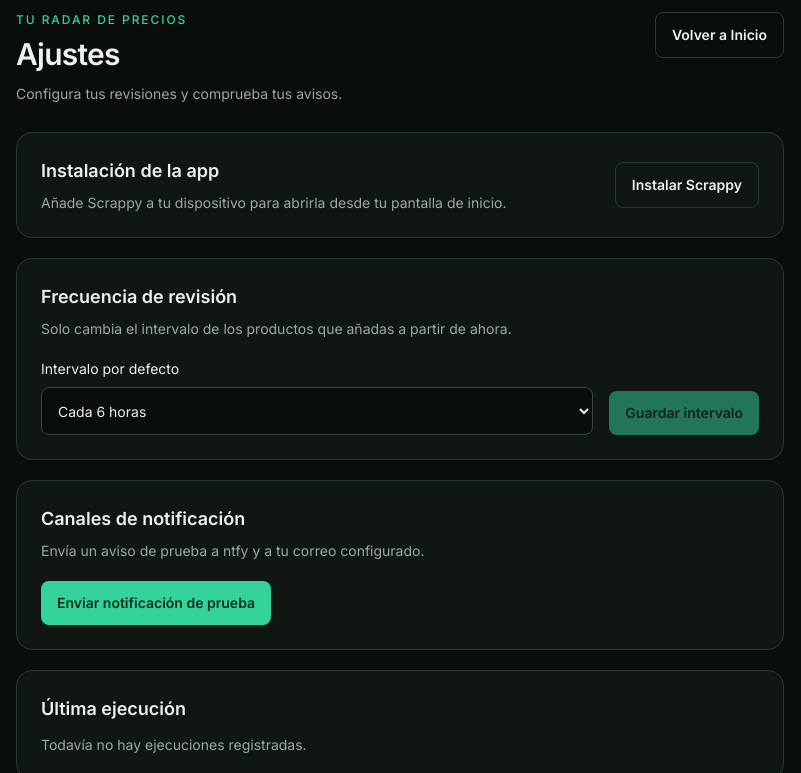
Test: settings › does not repeat a send after a network error
Expected: the dropdown labelled "Intervalo por defecto" is shown, [41,387,593,435]
Click the button "Enviar notificación de prueba" at [156, 603], box [41,581,271,625]
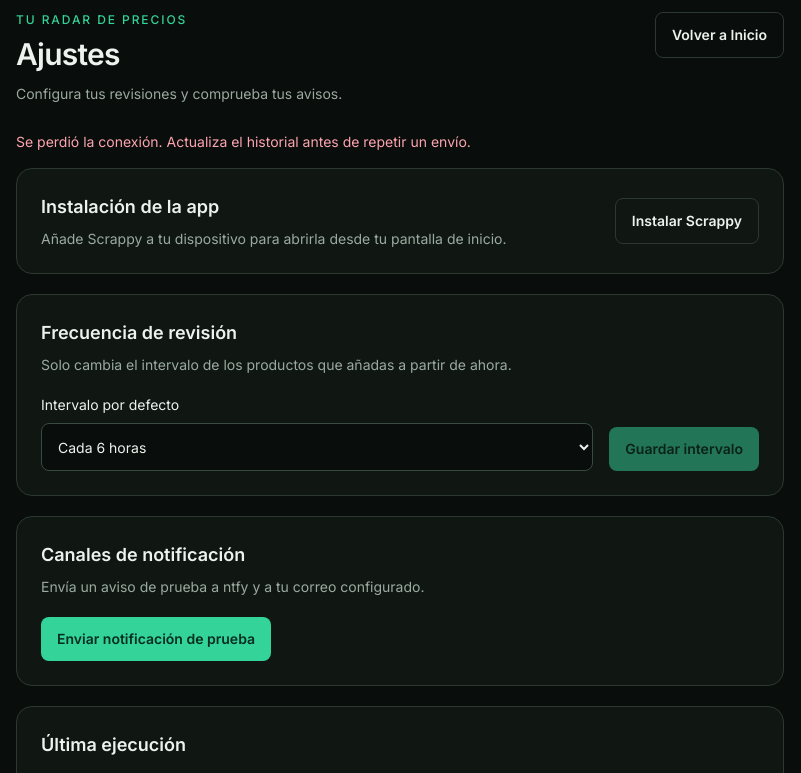
Expected: the message shows "Actualiza el historial", [16,133,471,150]
